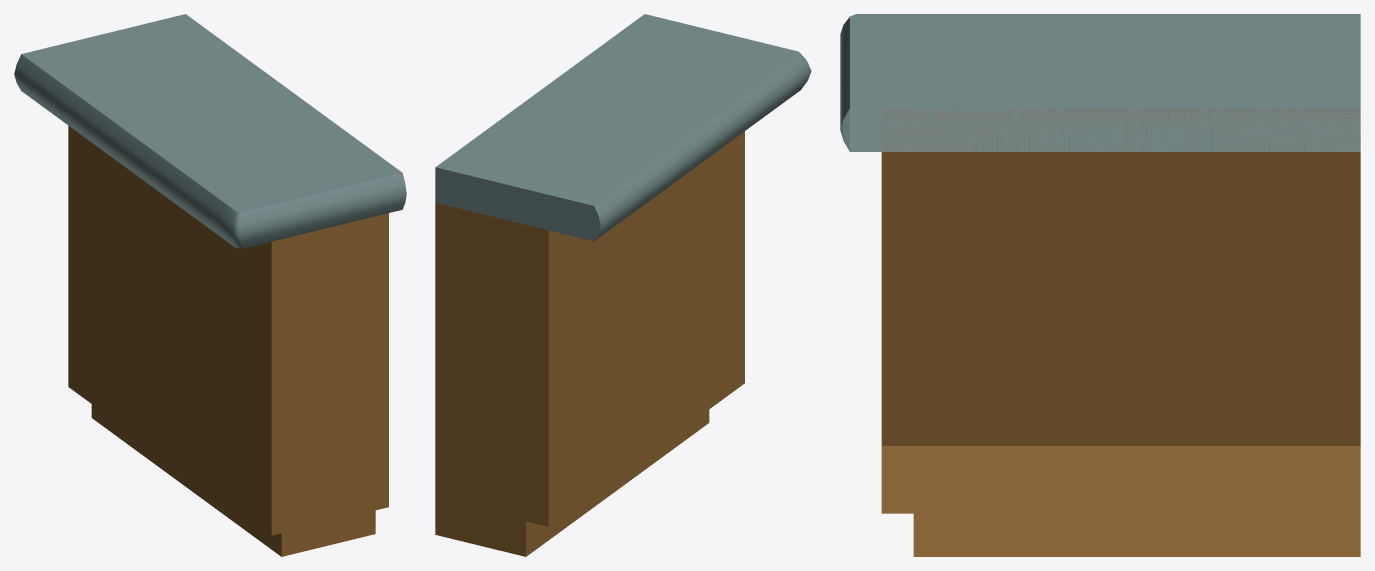
Rendered from Counter_End.fbx.
The picture shows the model from 3 angles, left to right: view 1: azimuth 30°, elevation 25°; view 2: azimuth 150°, elevation 25°; view 3: azimuth 270°, elevation 25°; orthographic projection. The views are drawn at different scales.
Visible parts, largest first — view 1: CounterSegment_Top; view 2: CounterSegment_Top; view 3: CounterSegment_Top.
Part boxes in pixels (<box>): CounterSegment_Top: <box>14,14,406,556</box>; CounterSegment_Top: <box>435,14,811,556</box>; CounterSegment_Top: <box>840,14,1360,556</box>.
Size of the model in its own units: 0.73 by 1.55 by 1.63.
